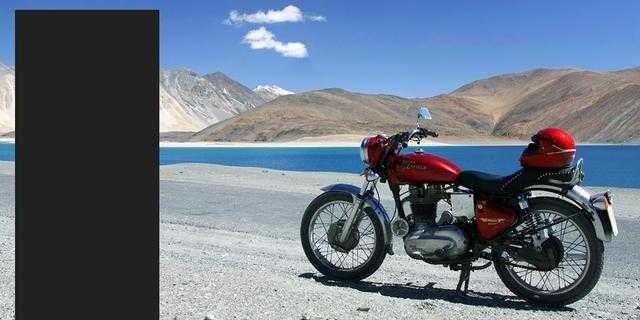motorbike: (300, 106, 620, 307)
